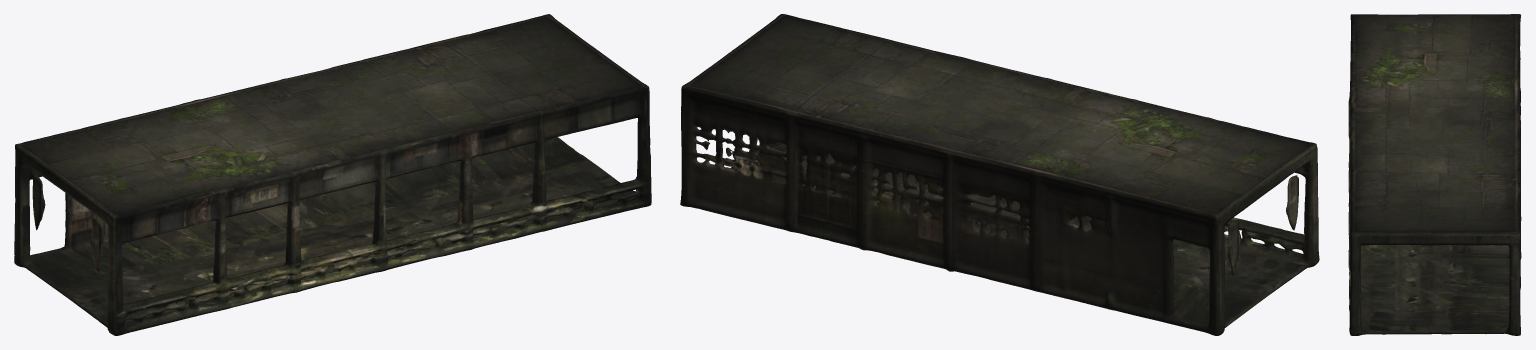
The model's file is Japanese_Dystopian_Sc_0424073234_texture.fbx.
The picture shows the model from 3 angles, left to right: view 1: azimuth 30°, elevation 25°; view 2: azimuth 150°, elevation 25°; view 3: azimuth 270°, elevation 25°; orthographic projection. The views are drawn at different scales.
Visible parts, largest first — view 1: Mesh1; view 2: Mesh1; view 3: Mesh1.
Part boxes in pixels (<box>): Mesh1: <box>14,14,651,335</box>; Mesh1: <box>680,14,1319,335</box>; Mesh1: <box>1348,14,1521,335</box>.
Bounding box in the file's own units: 200 × 42.57 × 65.68.
Materials: 1 (1 with a texture image).
